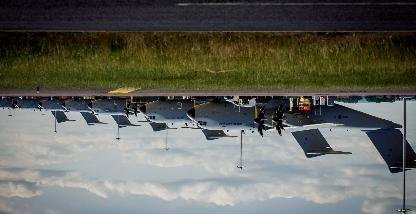A400M: (181, 95, 415, 175), (135, 97, 357, 159), (85, 97, 241, 141), (60, 96, 180, 131), (38, 96, 142, 127), (13, 97, 110, 125), (1, 97, 77, 123)
